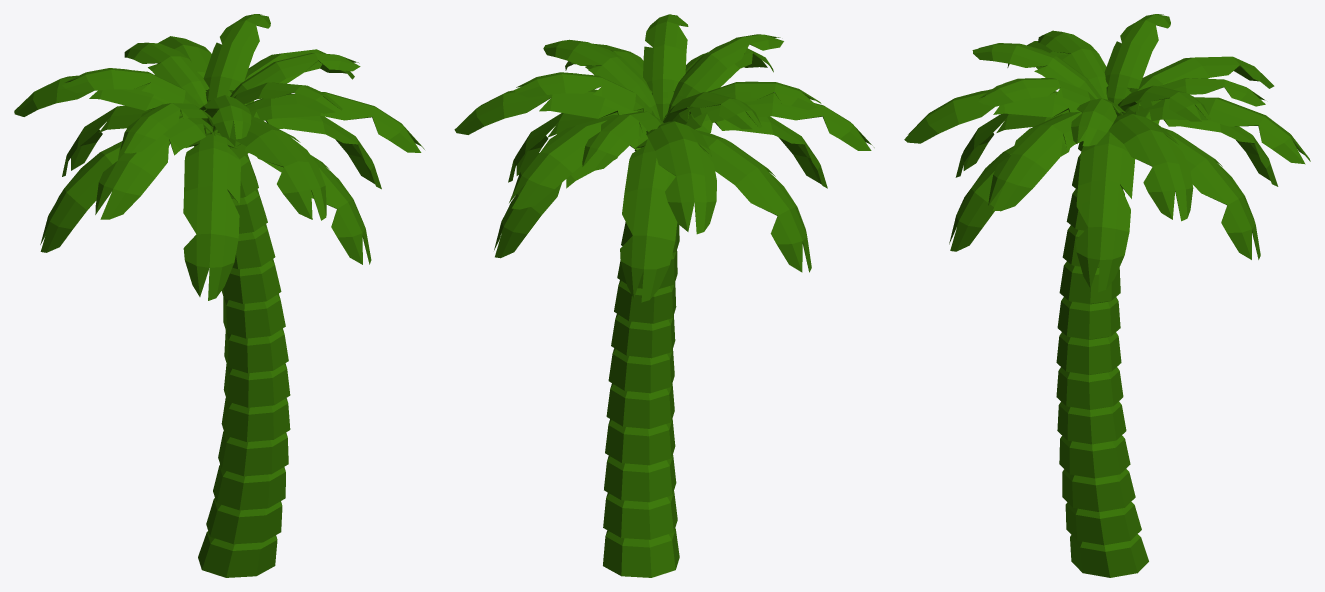
File: Tree_003.fbx
3 renders of one model, left to right at view 1: azimuth 30°, elevation 25°; view 2: azimuth 150°, elevation 25°; view 3: azimuth 270°, elevation 25°, orthographic. The views are drawn at different scales.
Visible parts, largest first — view 1: Tree_003; view 2: Tree_003; view 3: Tree_003.
Boxes of the visible parts, box(x1,y1,x2,y2) form: Tree_003: box(14, 14, 424, 577); Tree_003: box(454, 14, 874, 577); Tree_003: box(904, 14, 1310, 577).
Size of the model in its own units: 352 by 507 by 378.
